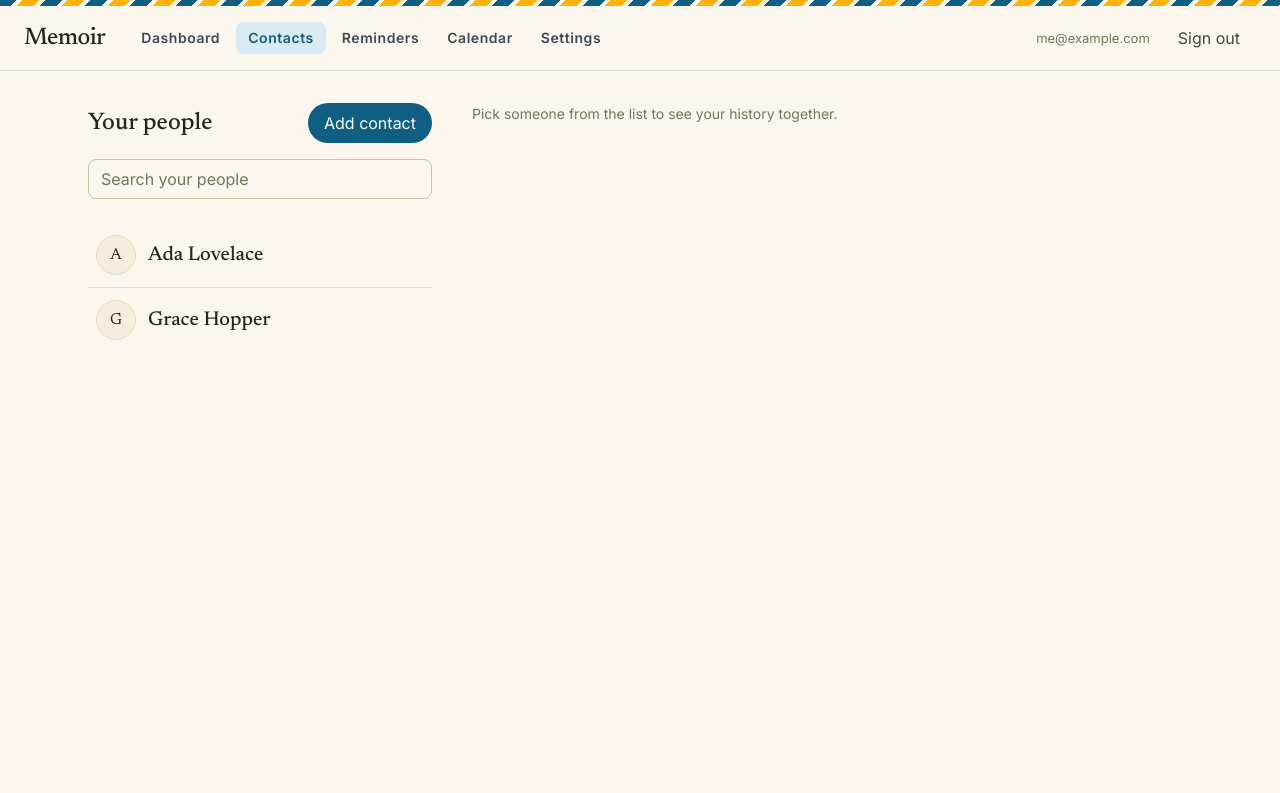
it: Contacts split pane › shows a Contact's detail beside the list when a row is selected
Click the link "A Ada Lovelace" at (180, 255), box [96,235,263,275]
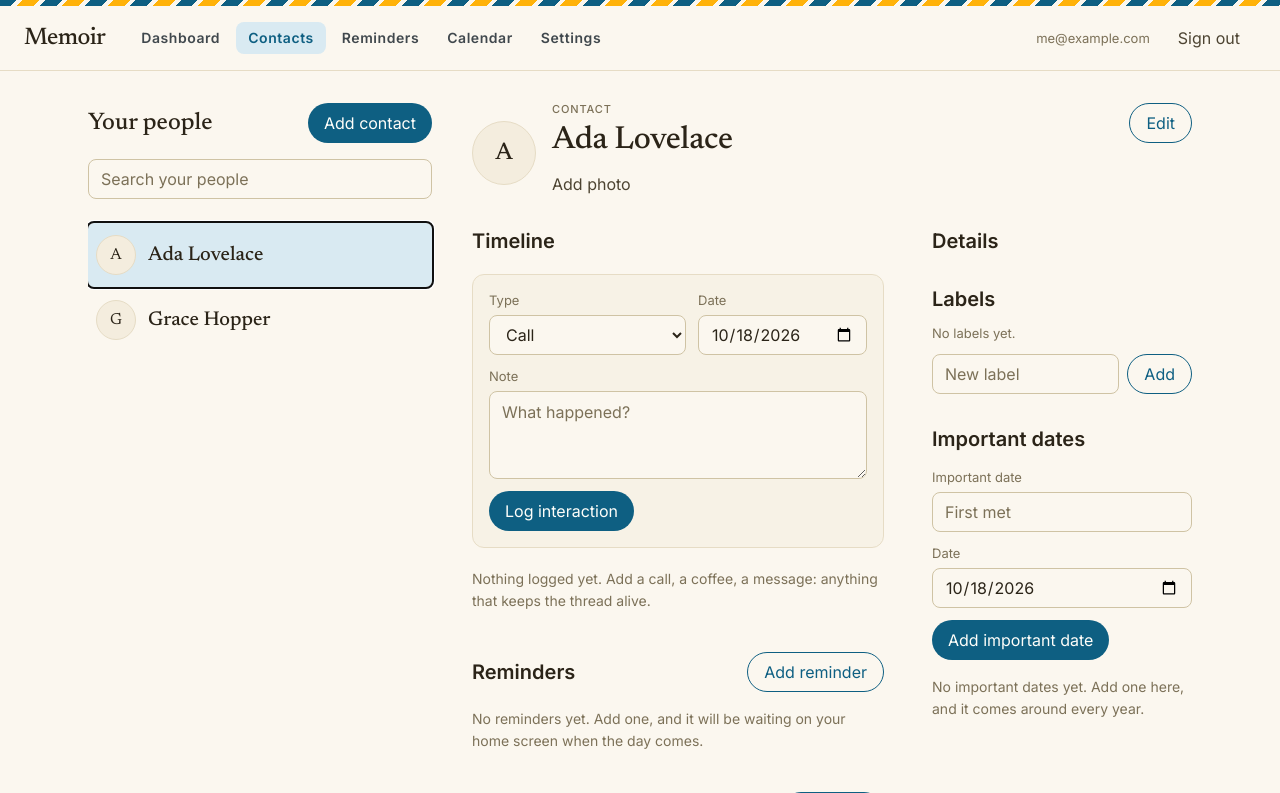
Expected: the link "G Grace Hopper" is shown, [96,300,271,340]
Expected: the heading "Ada Lovelace" is shown, [552,120,733,160]
